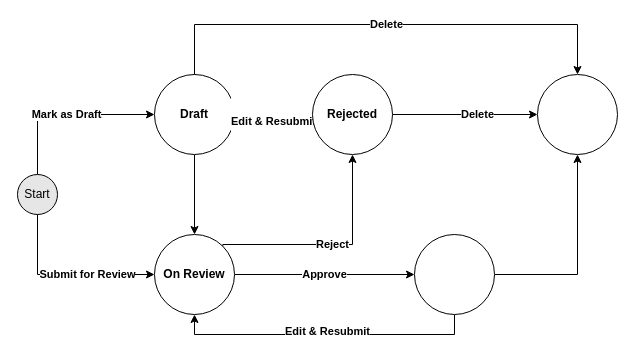
The diagram is 635 pixels wide and 360 high, and some of its shapes have lost their labels. Here are the shapes that lost their labels. From the top down, the box of each, then its label:
(536, 74, 618, 154): Deleted
(414, 234, 494, 314): Published
